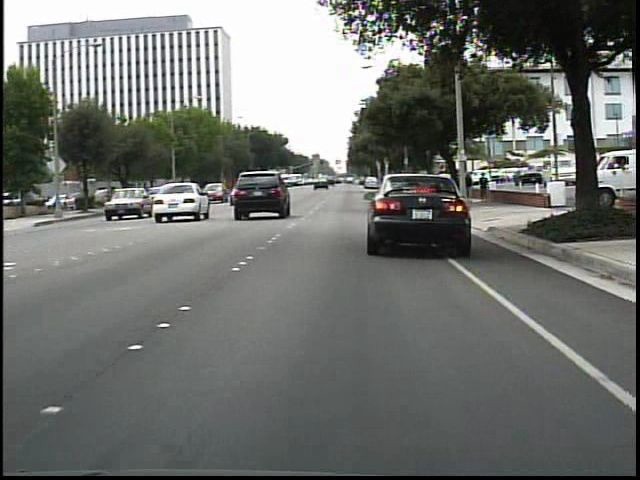person: (478, 172, 490, 206), (465, 173, 477, 203)
